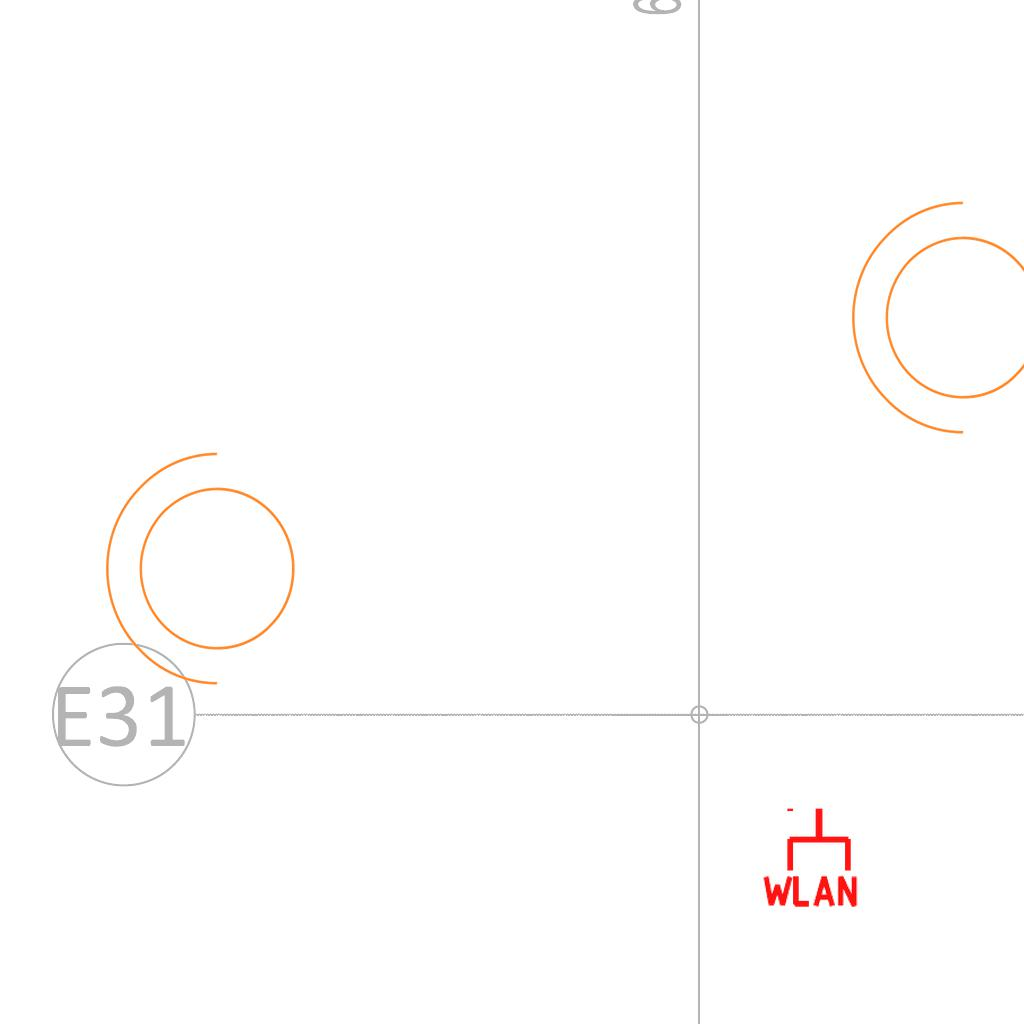Scheinwerfer_fuer_Alarmbeleuchtung: (95, 443, 320, 707), (841, 192, 1024, 456)
WLAN: (758, 804, 862, 909)
